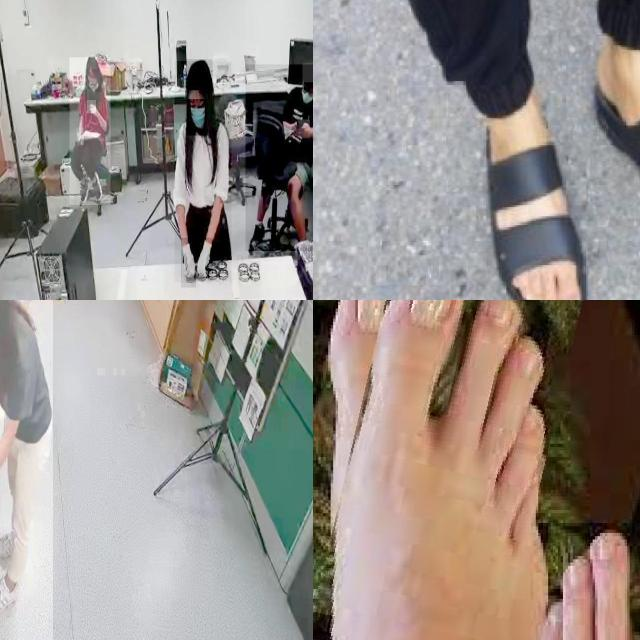Barefoots: (313, 300, 554, 640)
Sandals: (484, 75, 588, 300), (595, 27, 640, 250)
face_mask: (187, 99, 207, 136)
hand_glove: (181, 238, 197, 288), (199, 238, 213, 281)
hand_noglove: (290, 116, 302, 136), (298, 120, 310, 139), (76, 128, 85, 146), (87, 100, 97, 114)
head_nohelmet: (186, 59, 213, 91), (302, 62, 313, 83), (85, 56, 99, 70)
person: (0, 300, 53, 640), (174, 61, 232, 283), (245, 64, 313, 251), (69, 57, 111, 206)
shoes: (0, 567, 20, 621), (0, 520, 27, 559), (247, 218, 266, 252), (77, 175, 91, 206), (91, 167, 103, 203)
